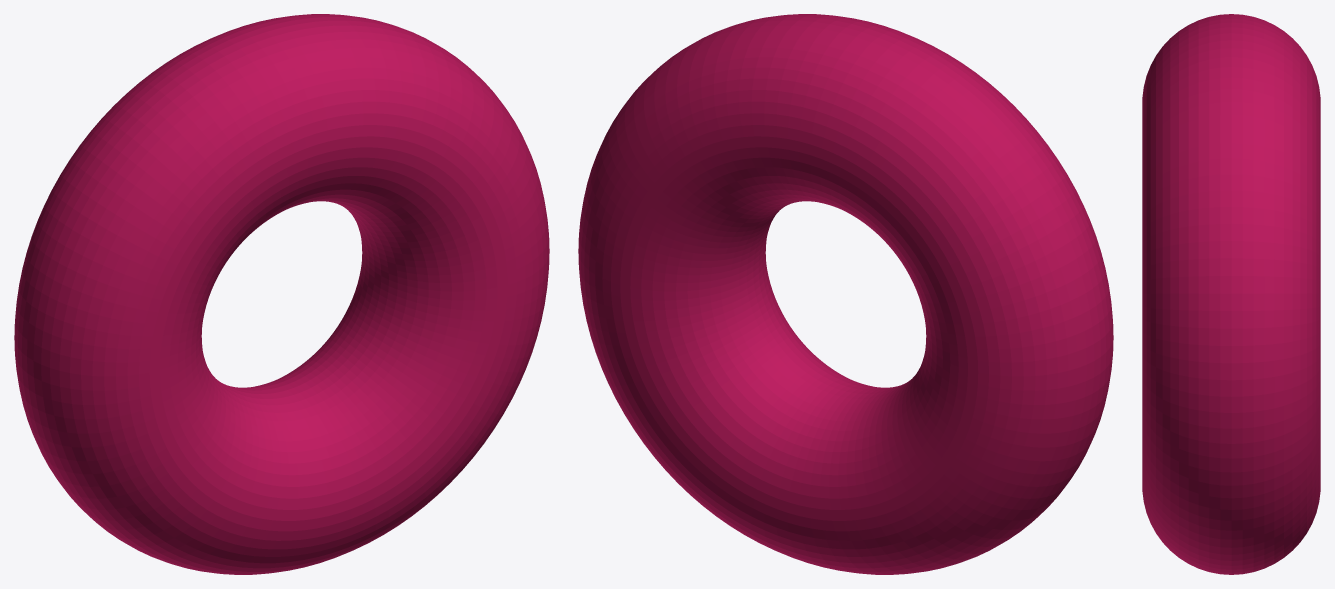
3 renders of one model, left to right at view 1: azimuth 30°, elevation 25°; view 2: azimuth 150°, elevation 25°; view 3: azimuth 270°, elevation 25°, orthographic. The views are drawn at different scales.
Parts seen in each view (by area): view 1: world; view 2: world; view 3: world.
Part boxes in pixels (x1,y1,x2,y2): world: (14,14,549,574); world: (578,14,1113,574); world: (1142,14,1320,574).
Bounding box in the file's own units: 26.4 × 26.4 × 8.38.
